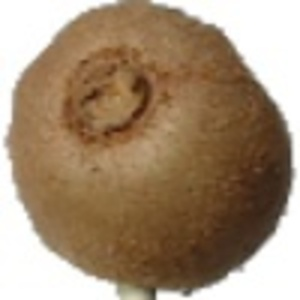kiwi: (4, 1, 296, 300)
